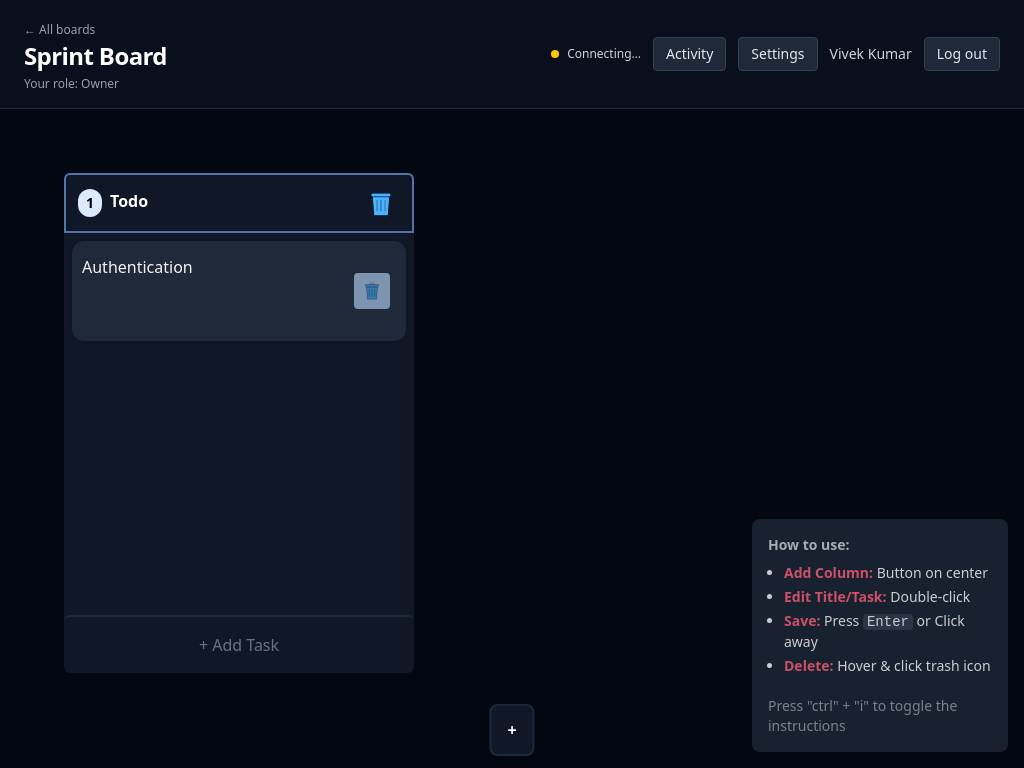
board activity drawer › shows loading, then the empty state
Expected: the text "Authentication" is shown, 82,256 -> 193,278
Click the button "Activity".
click(690, 54)  # box 653,37 -> 726,71
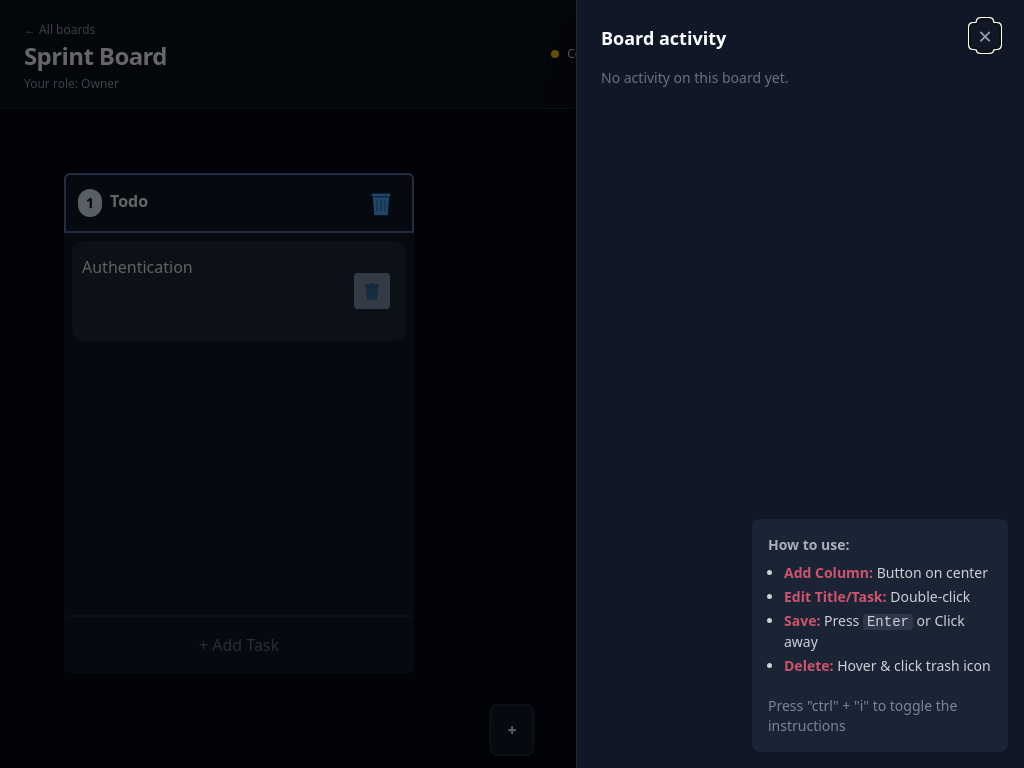
Now the text "No activity on this board yet." is shown, box 601,68 -> 788,87
